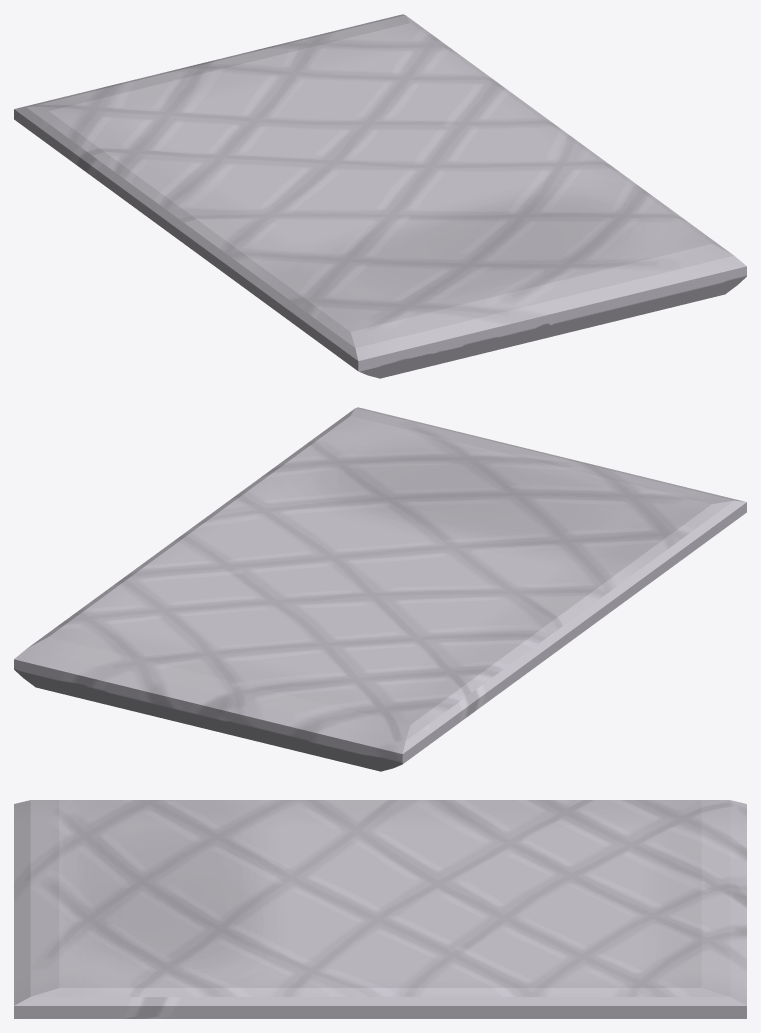
The model's file is Futon.fbx.
3 views of the same model, one above another, from view 1: azimuth 30°, elevation 25°; view 2: azimuth 150°, elevation 25°; view 3: azimuth 270°, elevation 25° (orthographic). The views are drawn at different scales.
Parts seen in each view (by area): view 1: Futon; view 2: Futon; view 3: Futon.
Boxes of the visible parts, <box> form: Futon: <box>14,14,746,378</box>; Futon: <box>14,407,746,771</box>; Futon: <box>14,800,746,1018</box>.
Bounding box in the file's own units: 139 × 11.3 × 213.
